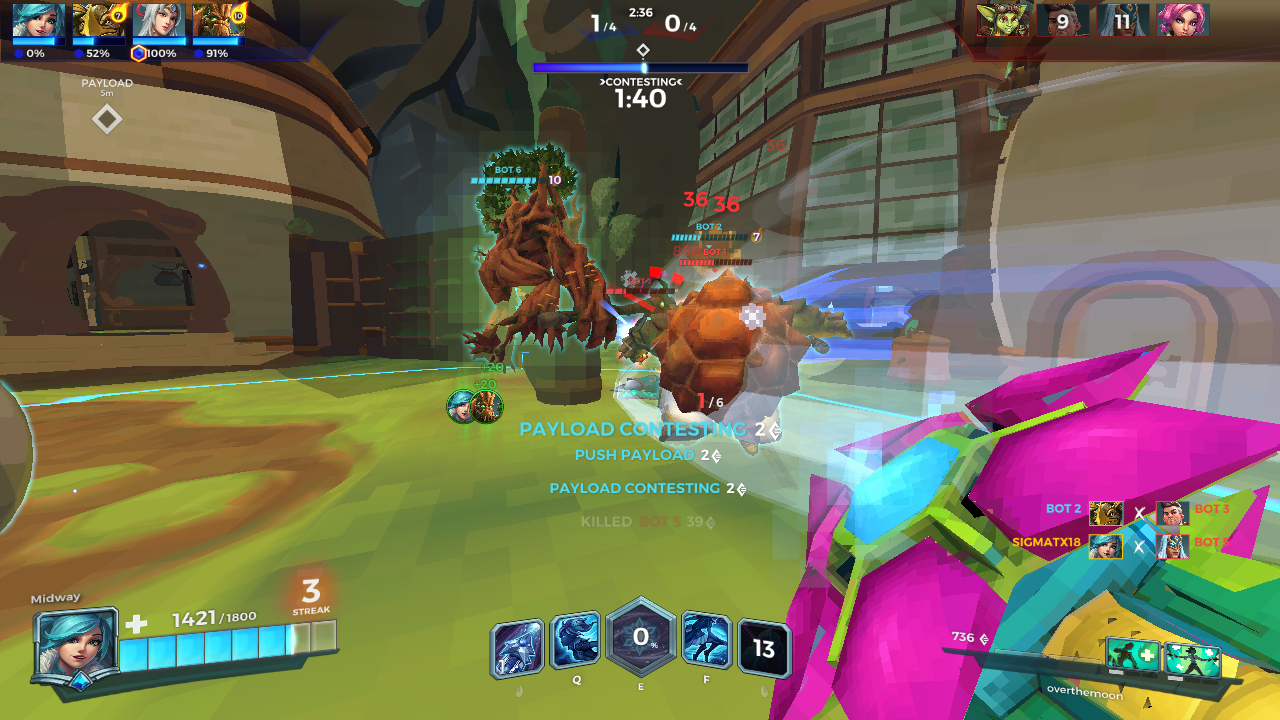model: (616, 292, 663, 378)
